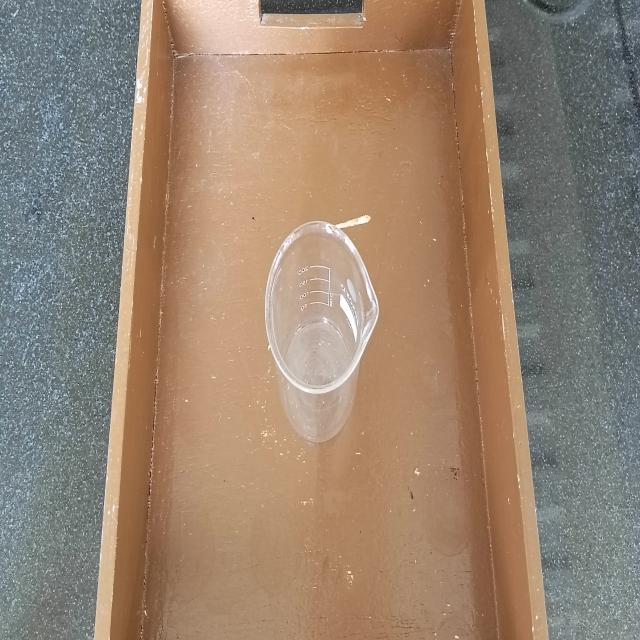beaker: (258, 207, 383, 456)
